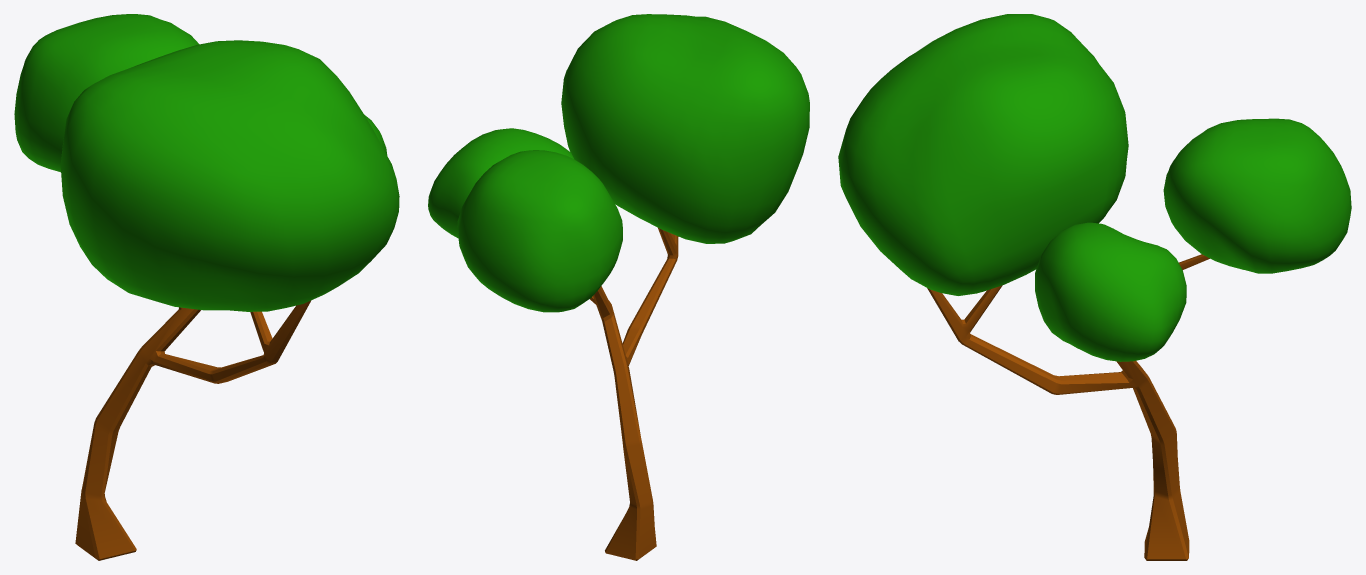
Rendered from drzewo2.fbx.
3 renders of one model, left to right at view 1: azimuth 30°, elevation 25°; view 2: azimuth 150°, elevation 25°; view 3: azimuth 270°, elevation 25°, orthographic. The views are drawn at different scales.
Parts seen in each view (by area): view 1: liscie, Tree; view 2: liscie, Tree; view 3: liscie, Tree.
Part boxes in pixels (box(x1,y1,x2,y2)): liscie: box(14, 14, 399, 311); Tree: box(75, 300, 311, 560); liscie: box(428, 14, 809, 312); Tree: box(590, 228, 678, 560); liscie: box(838, 14, 1351, 361); Tree: box(927, 254, 1209, 560).
Size of the model in its own units: 752 by 1066 by 964.
